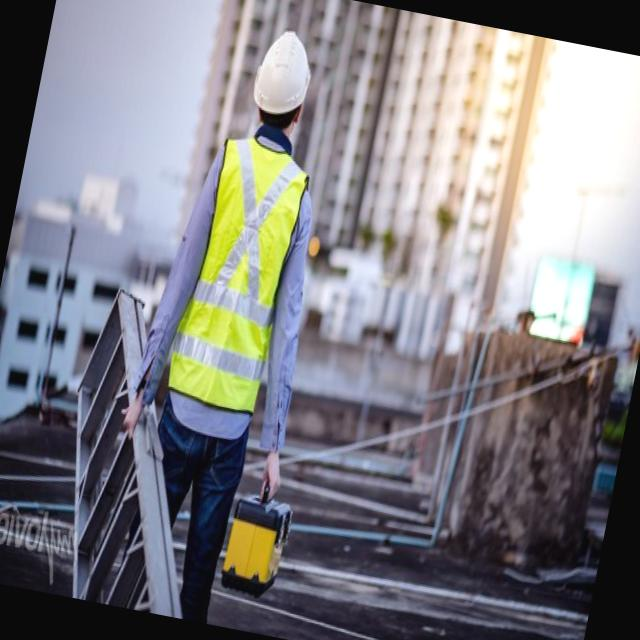helmet: (239, 23, 334, 125)
vest: (152, 126, 320, 430)
